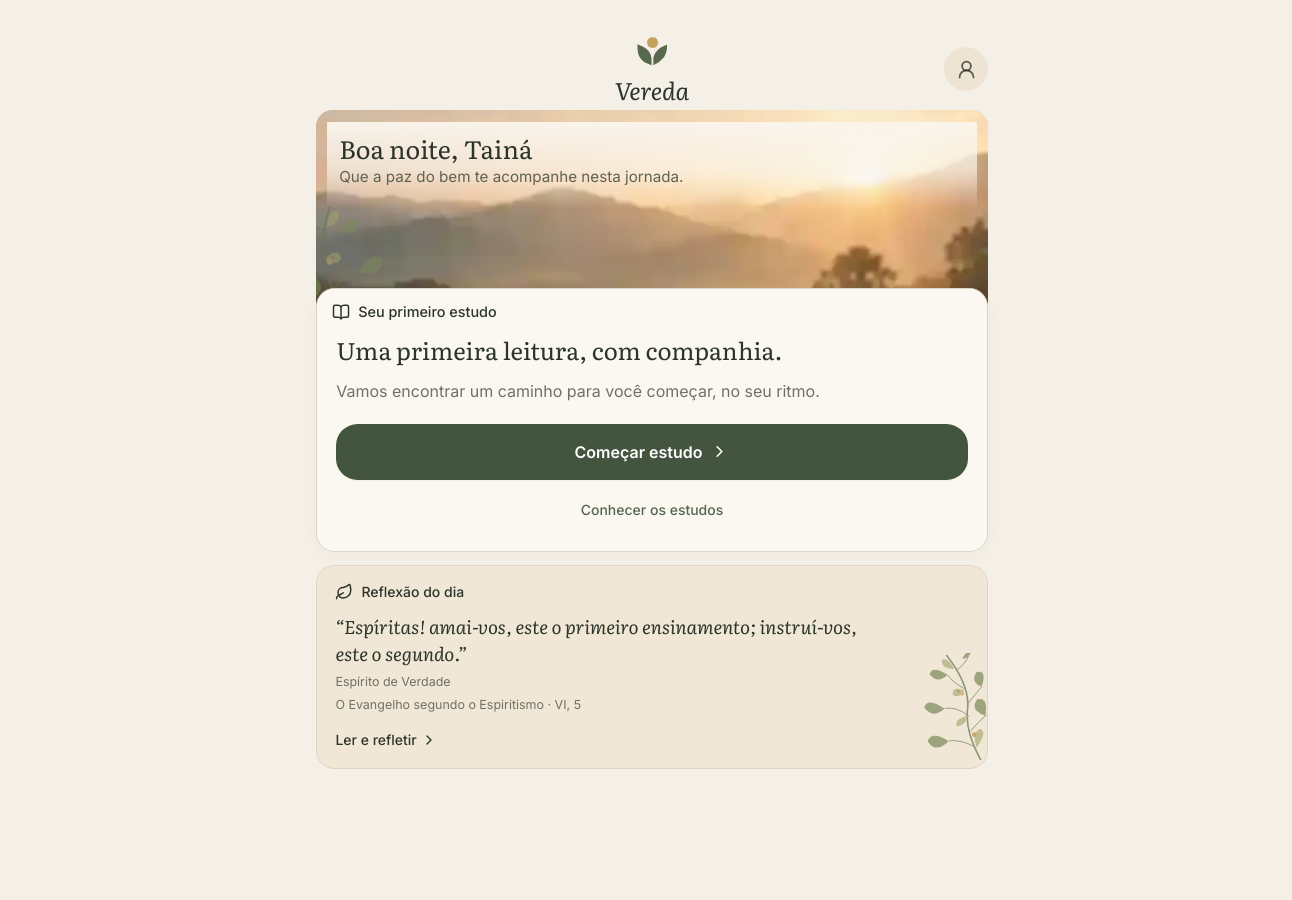
Test: editorial product interactions › provides a first step instead of false progress to a new reader
Click the button "Começar estudo" at [652, 452], box [336,424,968,480]
(page scrolled)
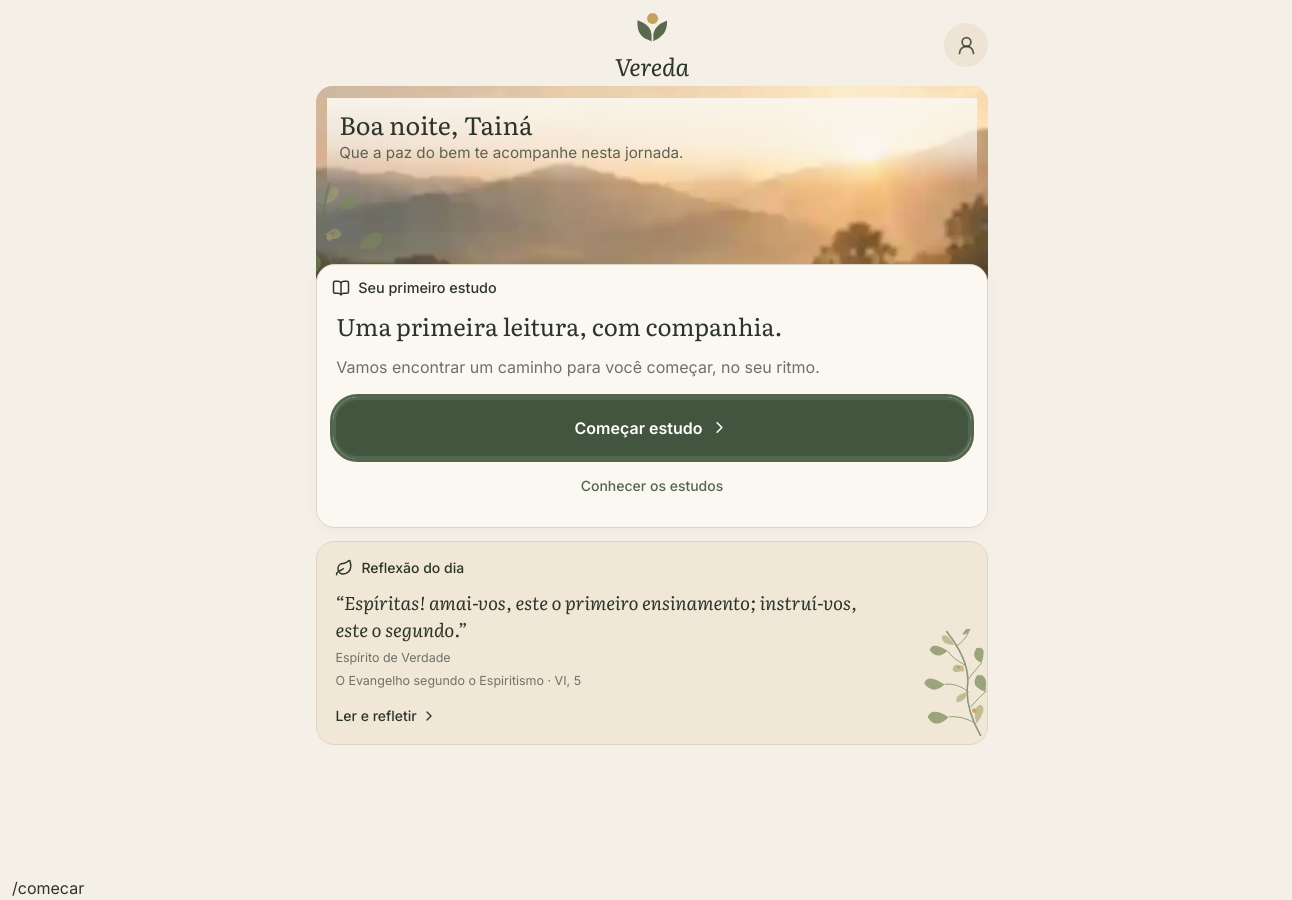
Result: the text named "Rota atual" reads "/comecar" at [12,878,84,898]
